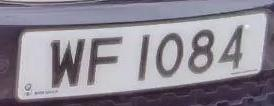0: (152, 25, 188, 85)
1: (130, 28, 158, 89)
4: (216, 21, 247, 73)
8: (185, 23, 219, 80)
F: (85, 31, 126, 91)
W: (47, 34, 89, 92)
